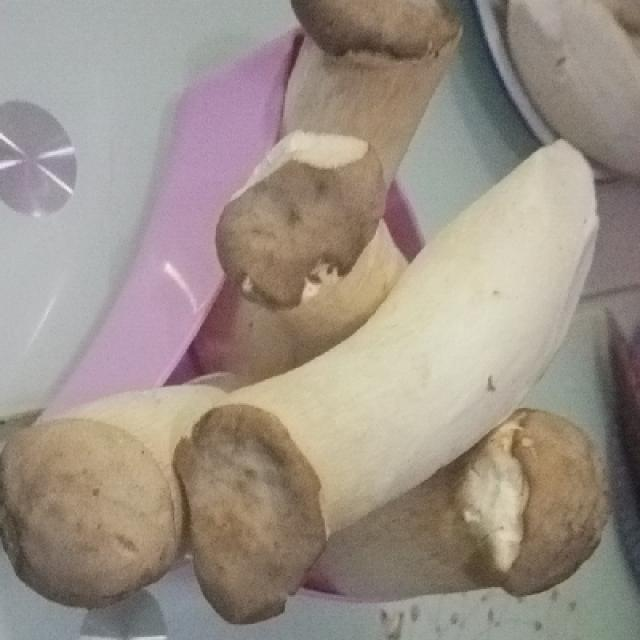Pleurotus eryngii: (175, 125, 606, 630), (6, 357, 250, 579)
